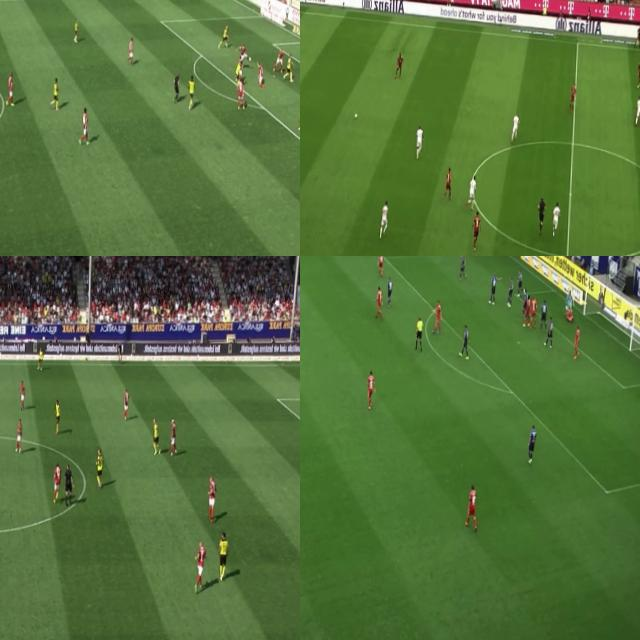ball: (246, 52, 252, 64), (353, 111, 359, 121)
player: (192, 540, 206, 590), (215, 528, 228, 580), (464, 482, 478, 528), (77, 108, 91, 146), (364, 370, 377, 410), (50, 398, 64, 434), (570, 324, 582, 362), (526, 426, 538, 464), (11, 418, 24, 452), (50, 462, 60, 506), (458, 321, 469, 359), (206, 474, 214, 524), (488, 271, 500, 303), (94, 450, 104, 488), (49, 75, 60, 109), (465, 174, 476, 208), (472, 208, 481, 249), (282, 52, 294, 82), (168, 413, 176, 457), (412, 125, 423, 156), (394, 46, 404, 80), (432, 298, 442, 332), (374, 284, 384, 318), (544, 316, 554, 350), (218, 23, 230, 51), (272, 46, 284, 74), (538, 298, 550, 326), (5, 73, 15, 106), (186, 76, 196, 109), (121, 383, 130, 418), (552, 199, 560, 237), (520, 286, 530, 316), (522, 295, 532, 325), (236, 41, 248, 65), (378, 202, 387, 234), (152, 408, 158, 456), (236, 75, 244, 109), (568, 80, 577, 110), (505, 276, 514, 305), (529, 295, 538, 324), (384, 277, 394, 303), (445, 164, 452, 200), (18, 376, 26, 406), (254, 61, 264, 84), (457, 256, 467, 278), (566, 286, 574, 312), (563, 306, 575, 322), (235, 60, 242, 86), (511, 113, 518, 139), (516, 270, 523, 296), (127, 38, 134, 63), (376, 256, 385, 274), (72, 16, 78, 42), (38, 344, 44, 370), (635, 95, 640, 125), (636, 54, 640, 88), (298, 97, 300, 130)
